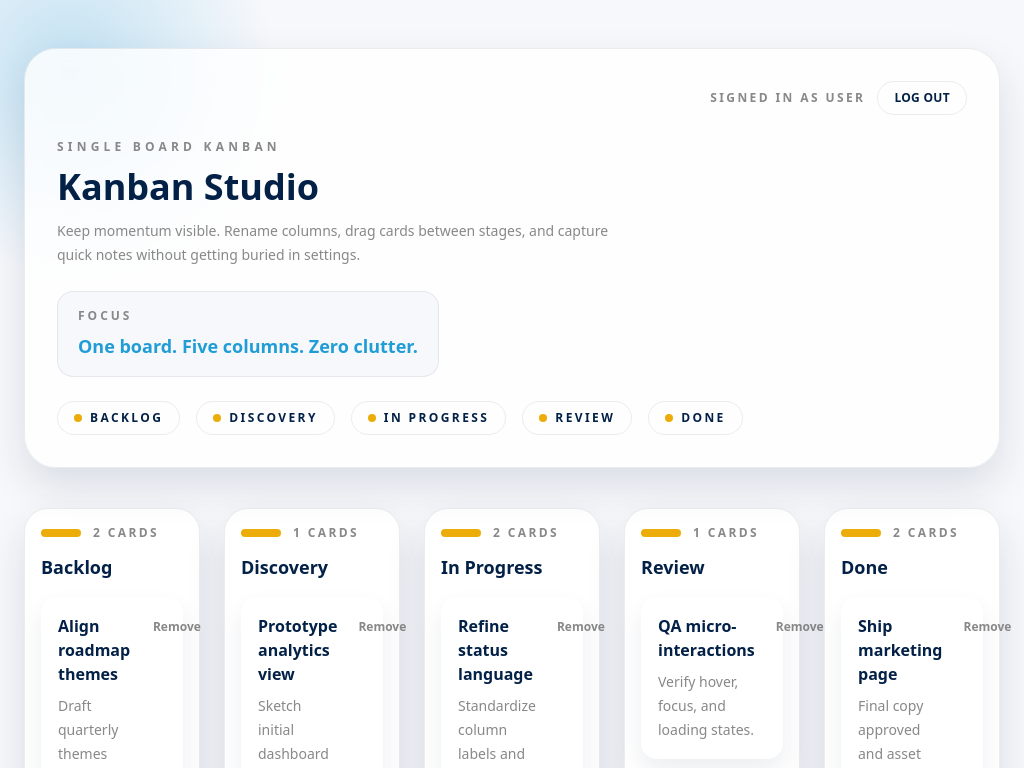
it: Home › returns to the login form after logout
Step 1. Click the button "Log out" → (922, 98), box x1=877 y1=81 x2=967 y2=115
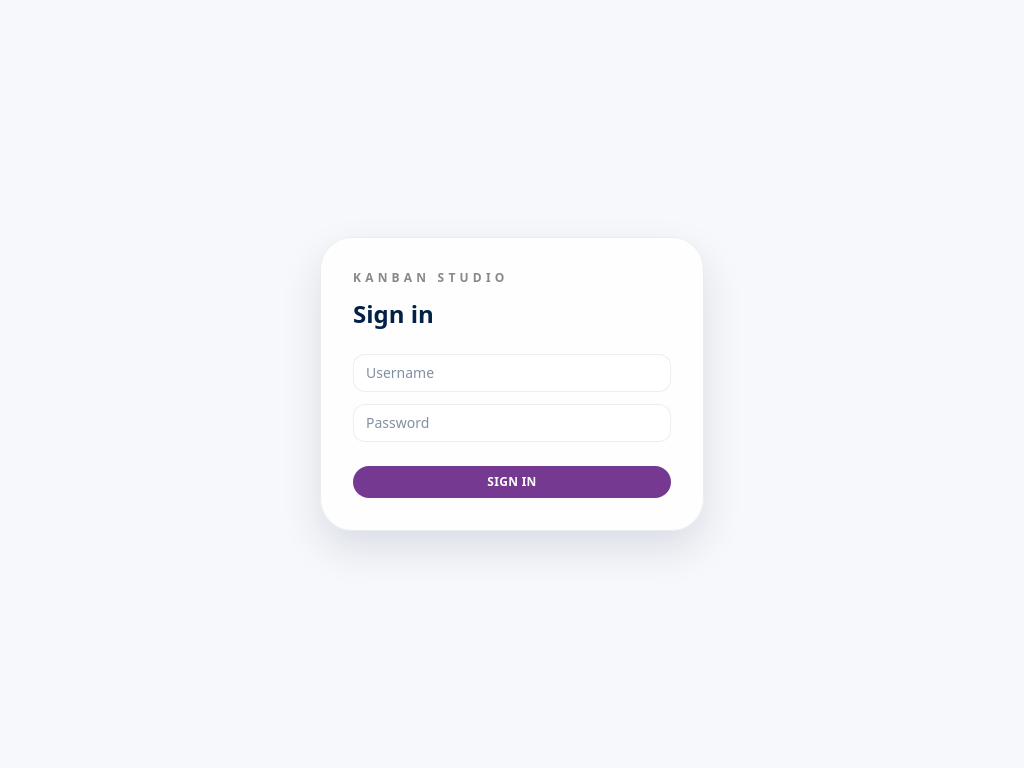
Expected: the heading "Sign in" is shown, x1=353 y1=297 x2=434 y2=330
